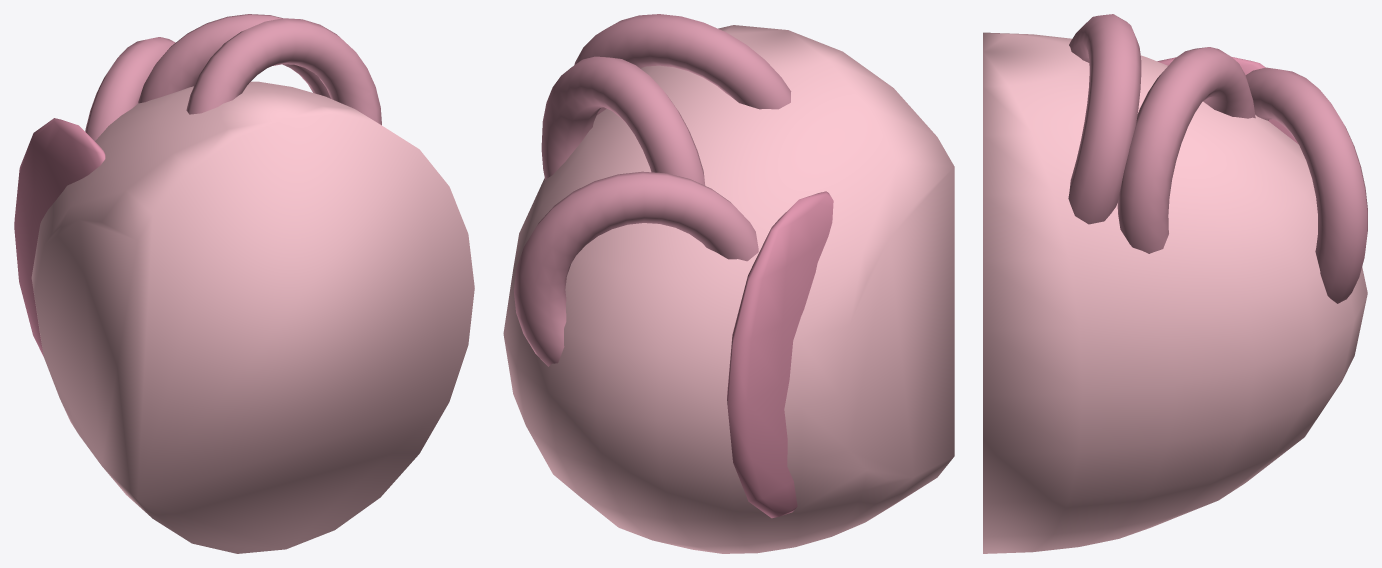
File: chunk45.glb
3 renders of one model, left to right at view 1: azimuth 30°, elevation 25°; view 2: azimuth 150°, elevation 25°; view 3: azimuth 270°, elevation 25°, orthographic. The views are drawn at different scales.
Parts seen in each view (by area): view 1: brain, fold, flesh; view 2: brain, fold, flesh; view 3: brain, fold, flesh.
Part boxes in pixels (x1,y1,x2,y2): brain: [31, 81, 474, 553]; fold: [85, 14, 381, 140]; flesh: [14, 118, 105, 356]; brain: [503, 25, 954, 553]; fold: [513, 14, 791, 366]; flesh: [727, 191, 833, 518]; brain: [983, 32, 1367, 553]; fold: [1068, 14, 1367, 303]; flesh: [1157, 57, 1297, 143].
Bounding box in the file's own units: 0.9145 × 1.23 × 0.8063.
